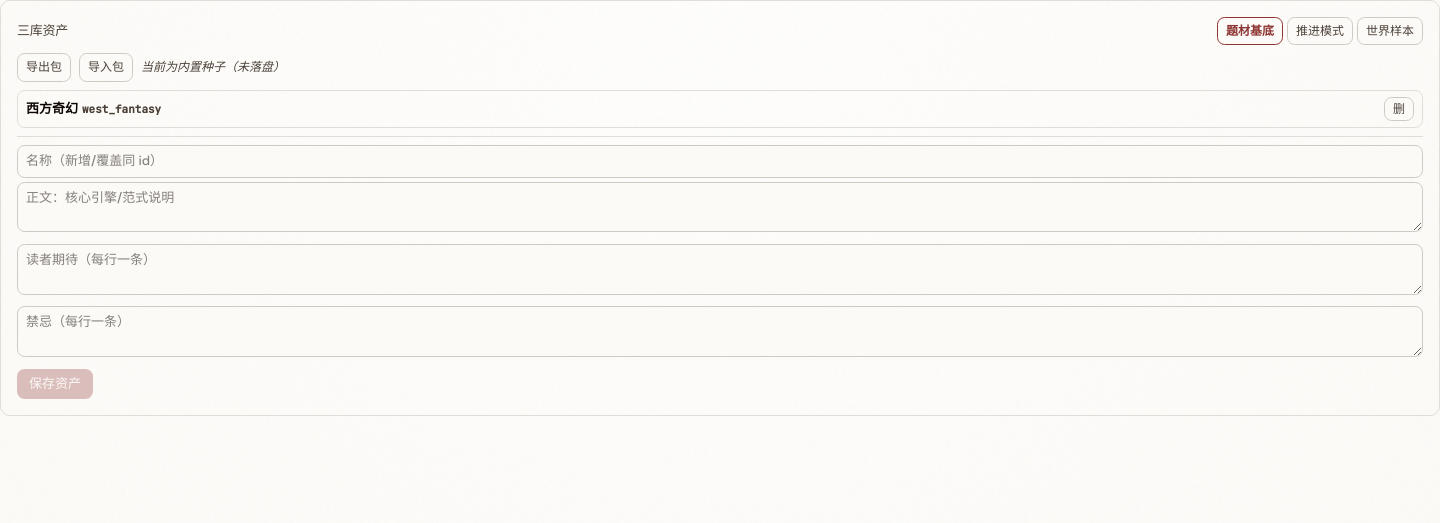
Test: AssetLibraryPanel 交互（475 号） › 导出包拉取导出端点且不报错；kind 切换清展开态（stale expandedId 修复回归）
This screenshot has width=1440, height=523.
Click the button "西方奇幻" at (52, 108), box [26,100,1376,118]
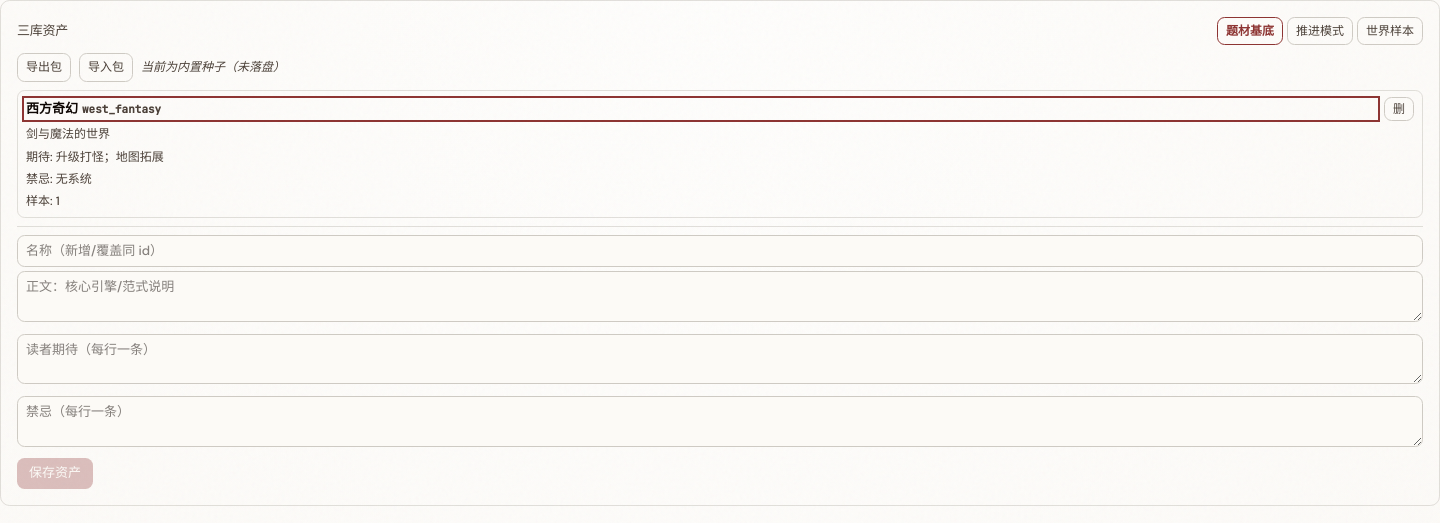
Check: the text "剑与魔法的世界" is shown, box [26,126,110,142]
// 导出链：端点被拉取、无失败提示
Click the button "导出包" at (44, 68), box [17,53,71,82]
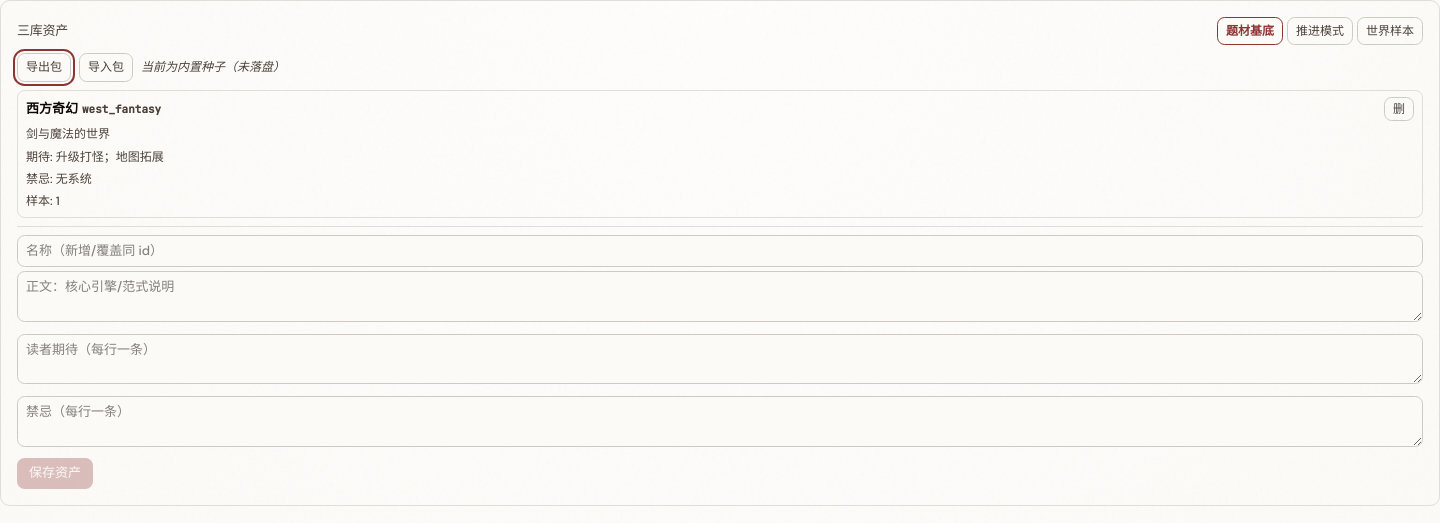
// 修复回归：切库后同 id 异库资产不得沿用展开态
Click the button "推进模式" at (1320, 31), box [1287,17,1353,45]
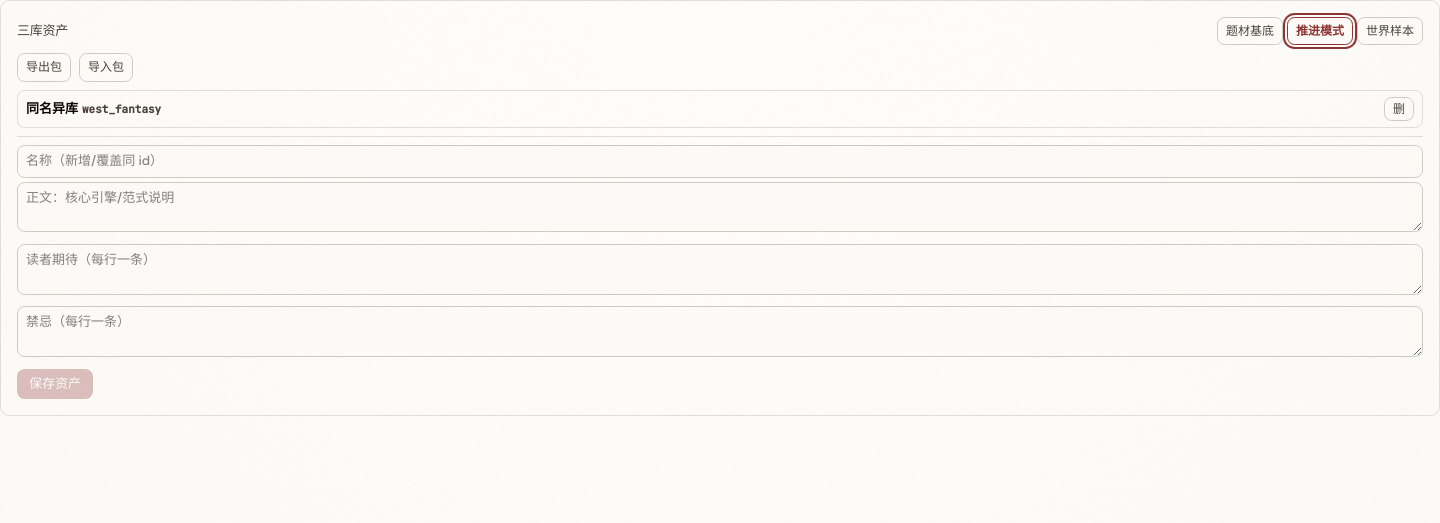
Check: the button "同名异库" is shown, box [26,100,1376,118]
